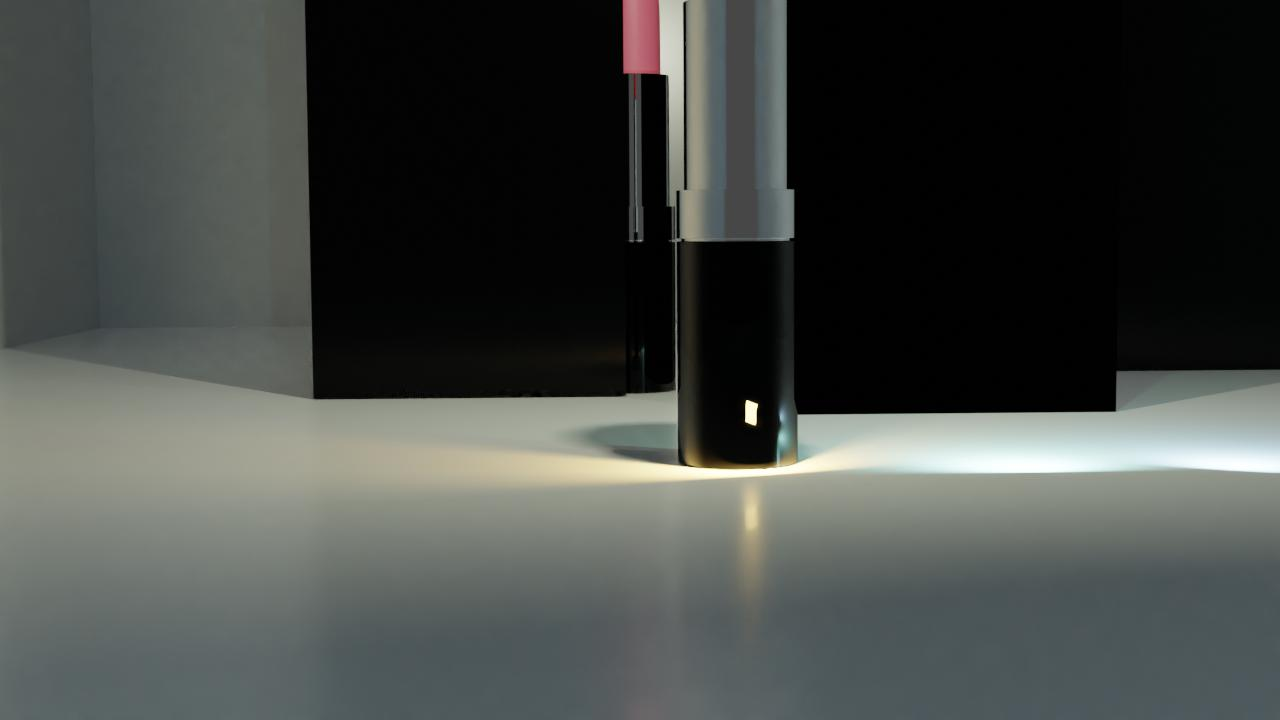CLASSIFIER_NAME: (675, 0, 800, 469), (590, 0, 677, 400)
